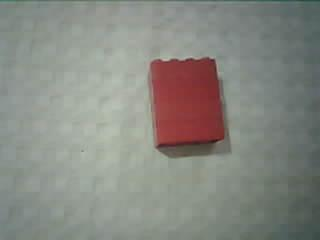lego: (148, 56, 226, 148)
